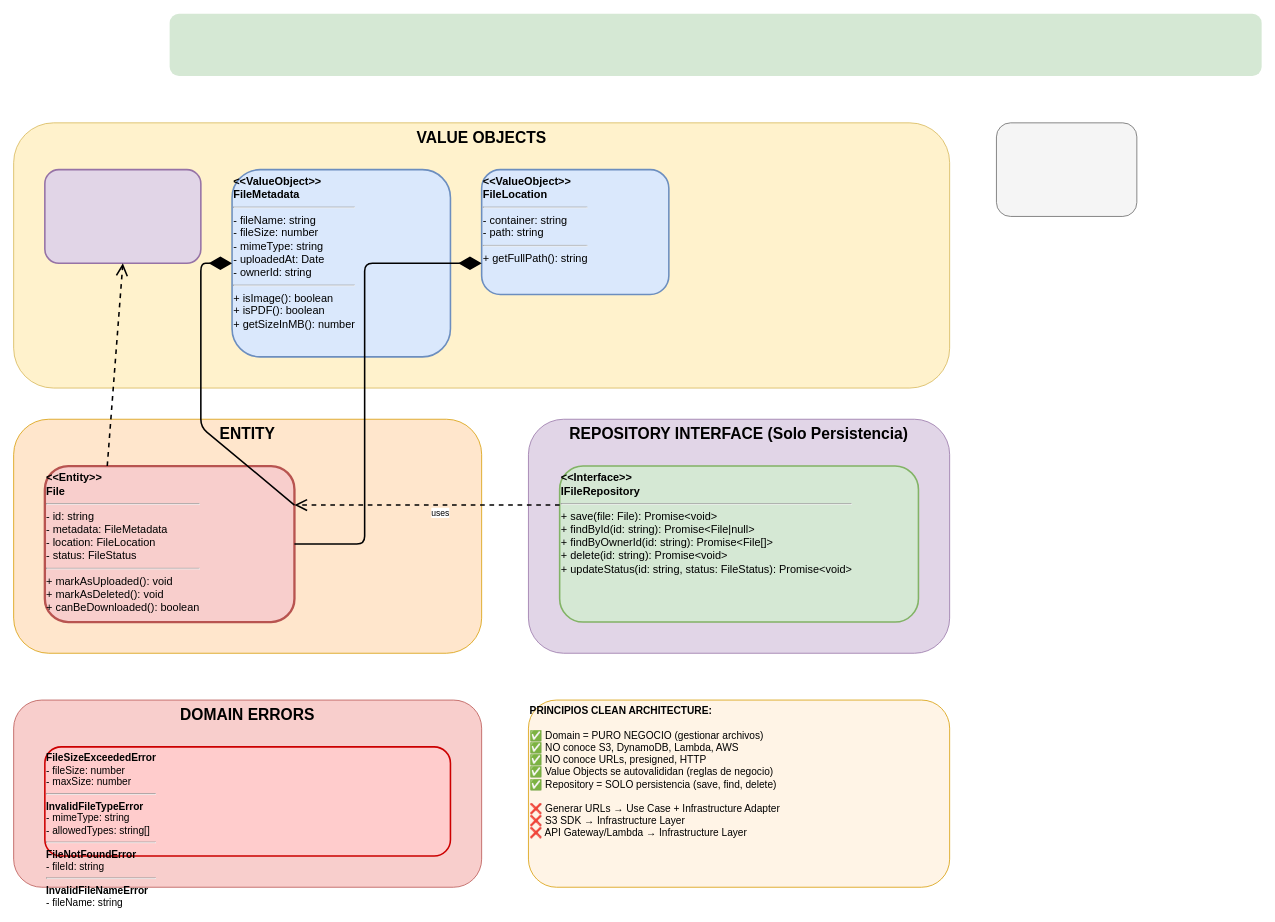
Some shapes in this 1275 by 922 pixel diagram are drawn without their labels. Each missing label, with the centre of its shape:
"<<Enum>> FileStatus PENDING UPLOADED DELETED" belongs at [122,216].
"FILE SERVICE - DOMAIN MODEL (PURO NEGOCIO)" belongs at [715,44].
"LEYENDA: ◆ Composición ---> Dependencia ━━> Usa" belongs at [1066,169].
